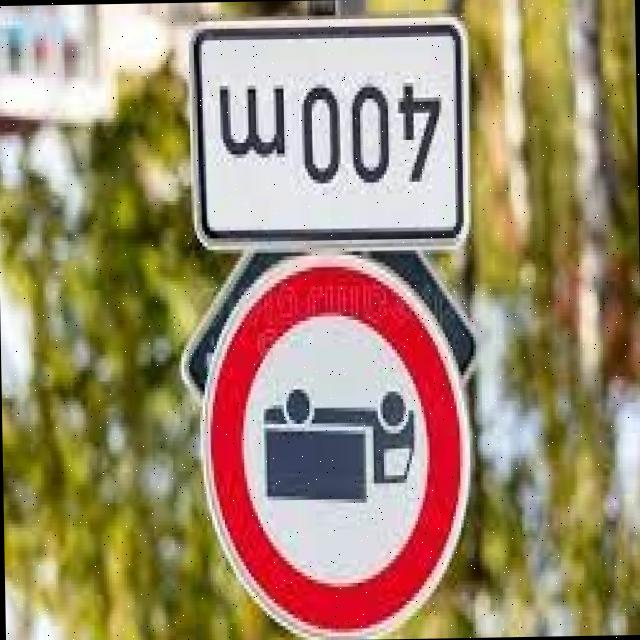do_not_enter: (201, 245, 472, 640)
